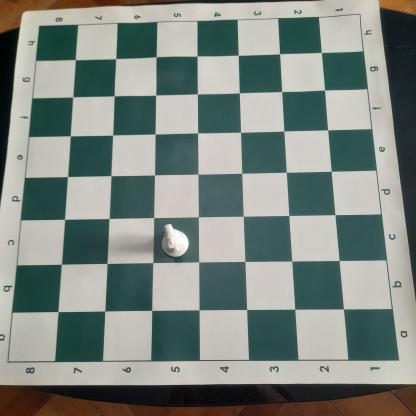white-knight: (161, 223, 190, 258)
